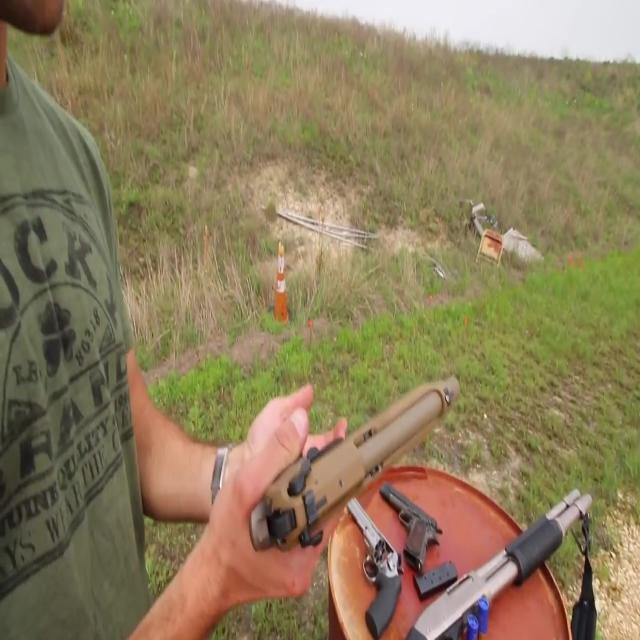Weapon: (206, 292, 610, 640)
